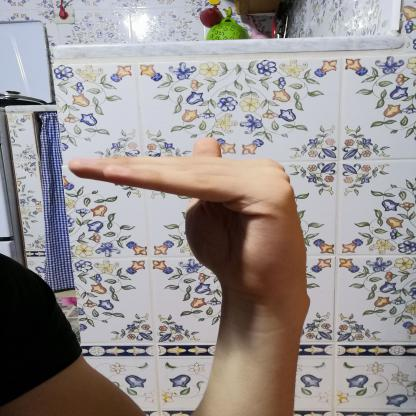KHAA: (56, 130, 324, 311)
